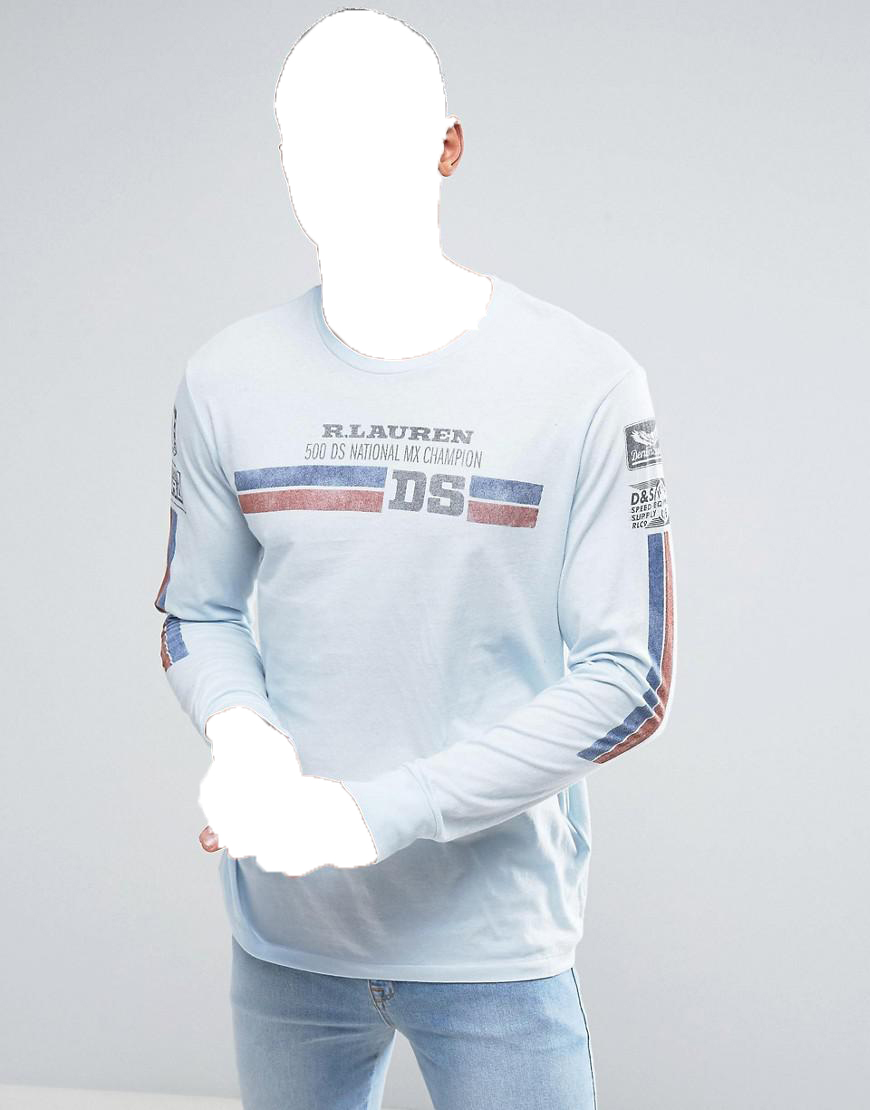teeshirt: (151, 266, 691, 974)
